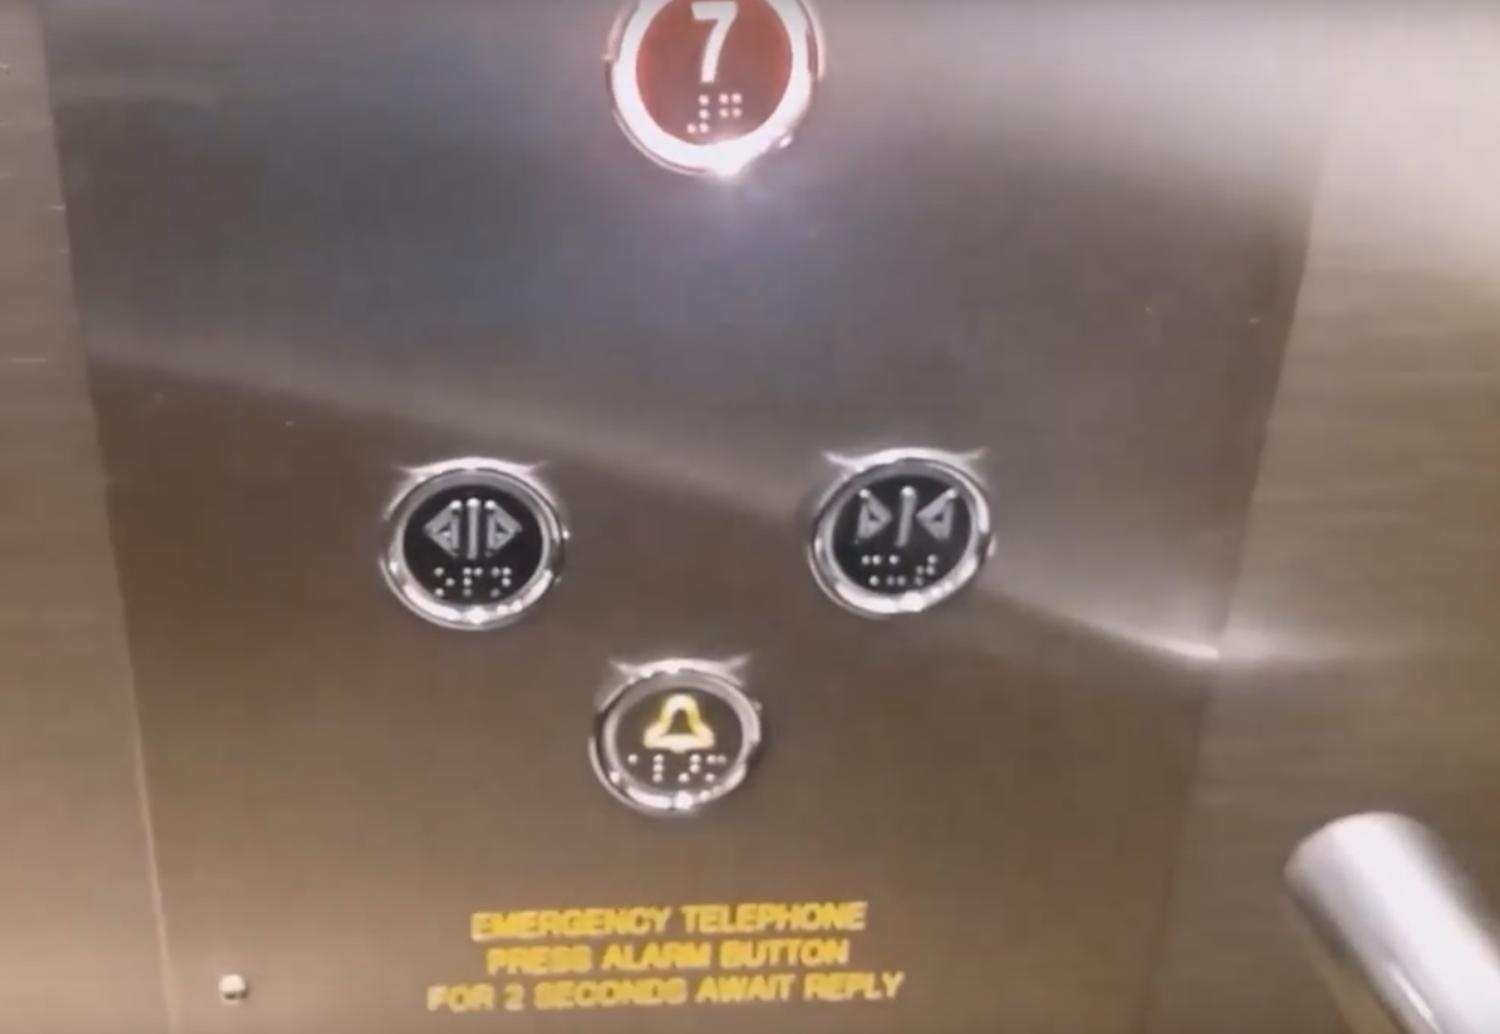7: (597, 5, 826, 188)
alarm: (582, 654, 771, 823)
close: (800, 439, 1004, 630)
open: (367, 449, 578, 637)
